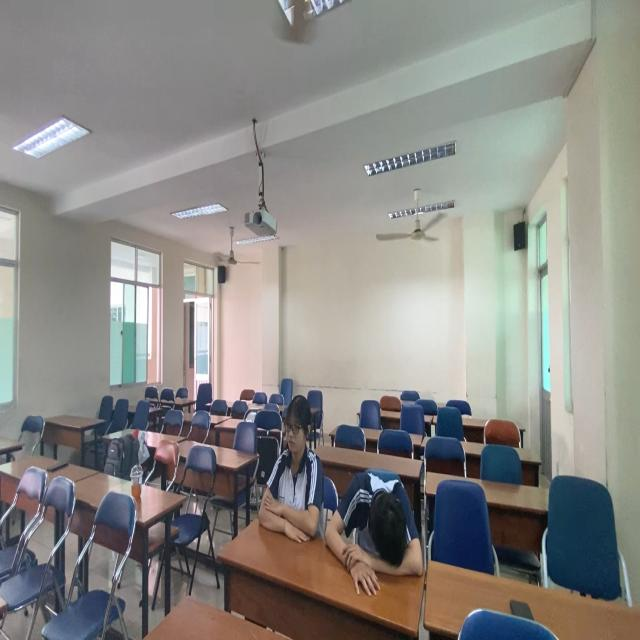sleep: (323, 458, 428, 606)
